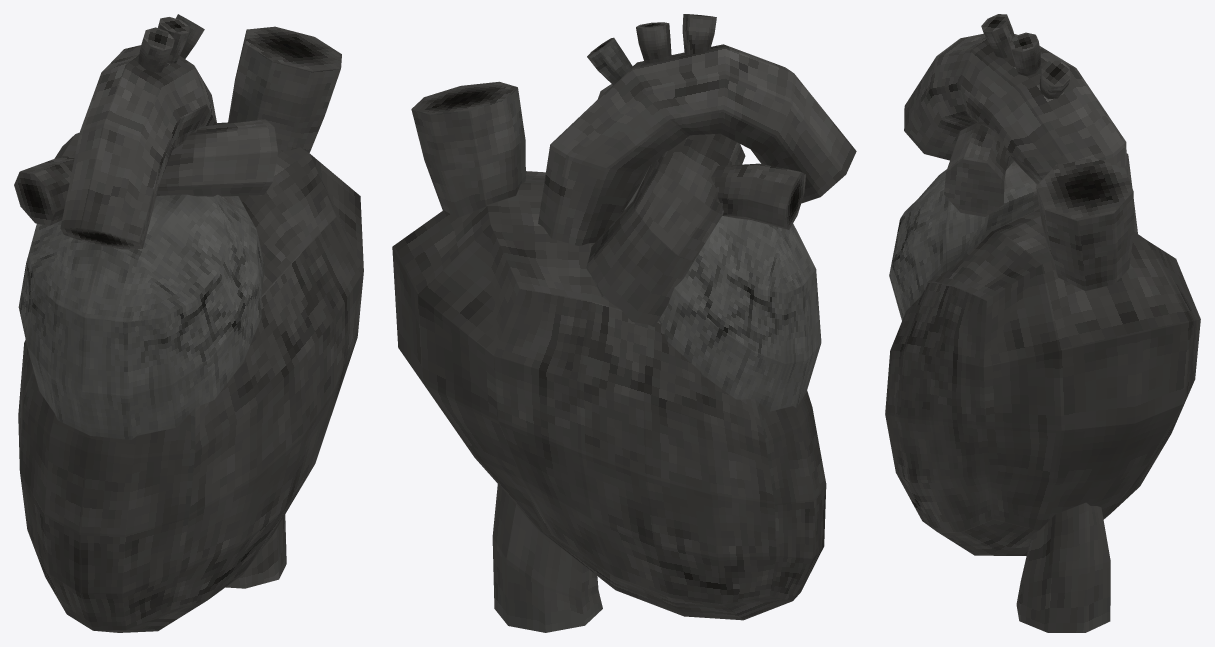
The model's file is heart_of_stone.glb.
3 views of the same model, side by side, from view 1: azimuth 30°, elevation 25°; view 2: azimuth 150°, elevation 25°; view 3: azimuth 270°, elevation 25° (orthographic). The views are drawn at different scales.
Parts seen in each view (by area): view 1: Heart; view 2: Heart; view 3: Heart.
Boxes of the visible parts, left/top/right/bottom form: Heart: left=14, top=14, right=363, bottom=632; Heart: left=392, top=14, right=856, bottom=632; Heart: left=885, top=14, right=1200, bottom=632.
Size of the model in its own units: 0.5499 by 0.8704 by 0.4556.
Materials: 1 (1 with a texture image).
